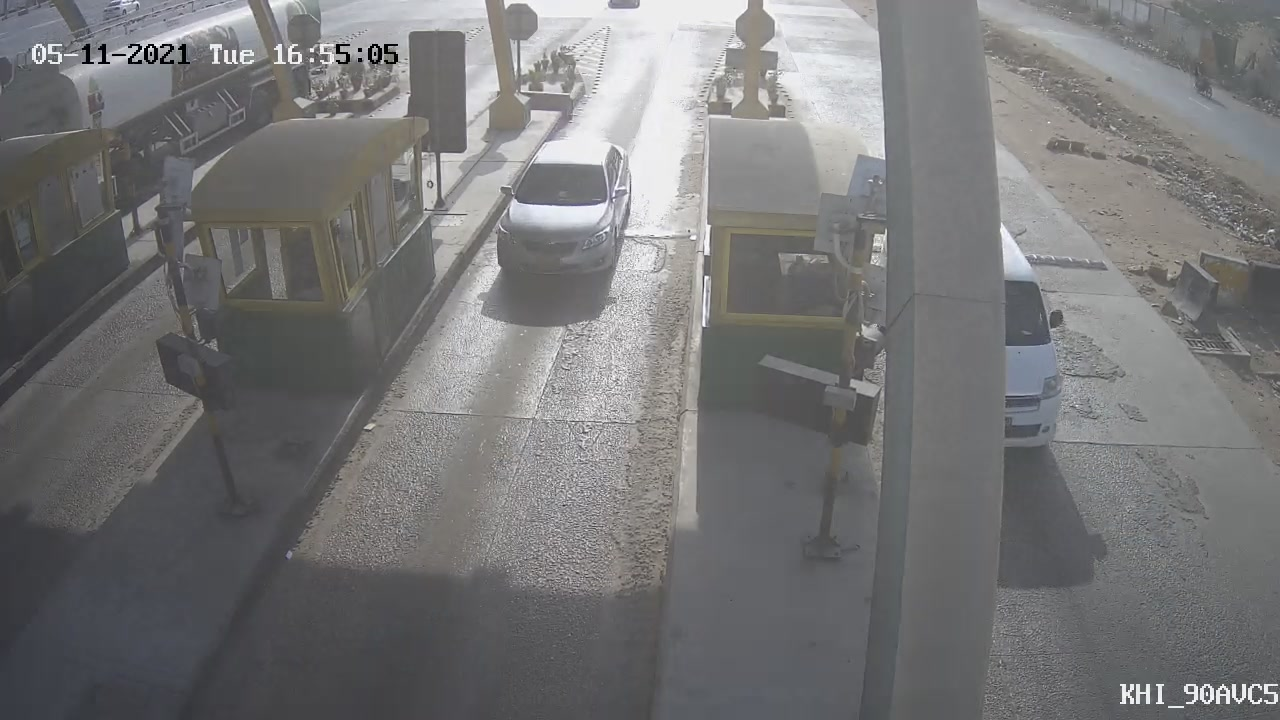F1: (470, 124, 653, 303)
